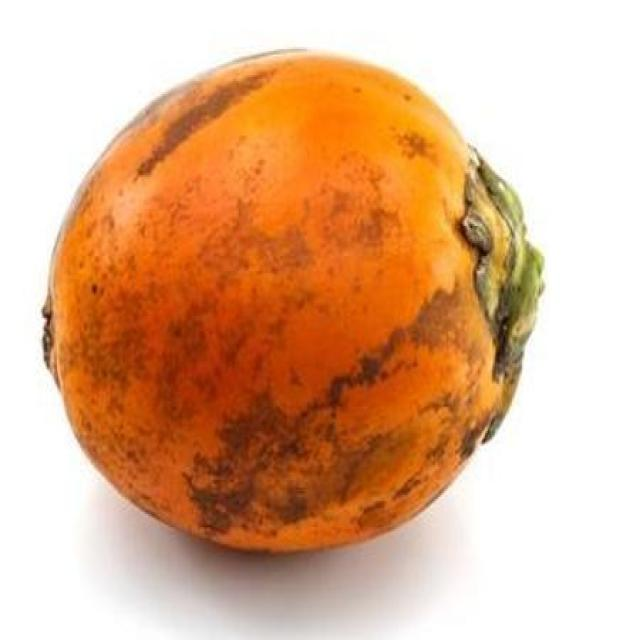good: (44, 49, 545, 559)
